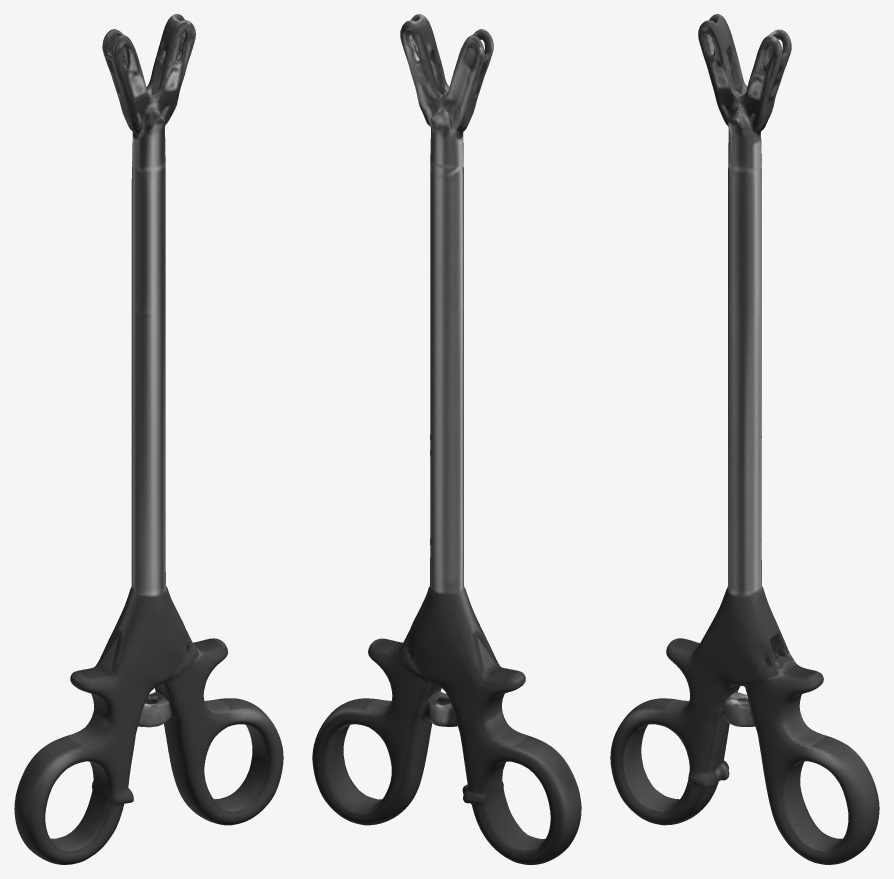
Rendered from grasper.glb.
The picture shows the model from 3 angles, left to right: view 1: azimuth 30°, elevation 25°; view 2: azimuth 150°, elevation 25°; view 3: azimuth 330°, elevation 25°; orthographic projection.
Parts seen in each view (by area): view 1: Lux3D_grasper_0; view 2: Lux3D_grasper_0; view 3: Lux3D_grasper_0.
Part boxes in pixels (box(x1,y1,x2,y2)): Lux3D_grasper_0: box(14, 14, 283, 864); Lux3D_grasper_0: box(312, 14, 581, 864); Lux3D_grasper_0: box(610, 14, 879, 864).
Bounding box in the file's own units: 0.6008 × 1.8 × 0.1052.
1 material, 1 textured.
